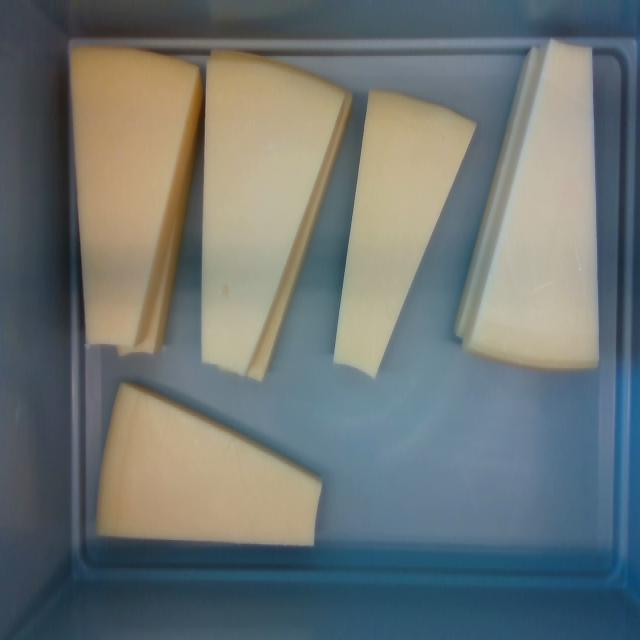cheese: (202, 55, 348, 370), (456, 41, 596, 368), (334, 91, 473, 376), (71, 49, 199, 345), (97, 384, 321, 544)
